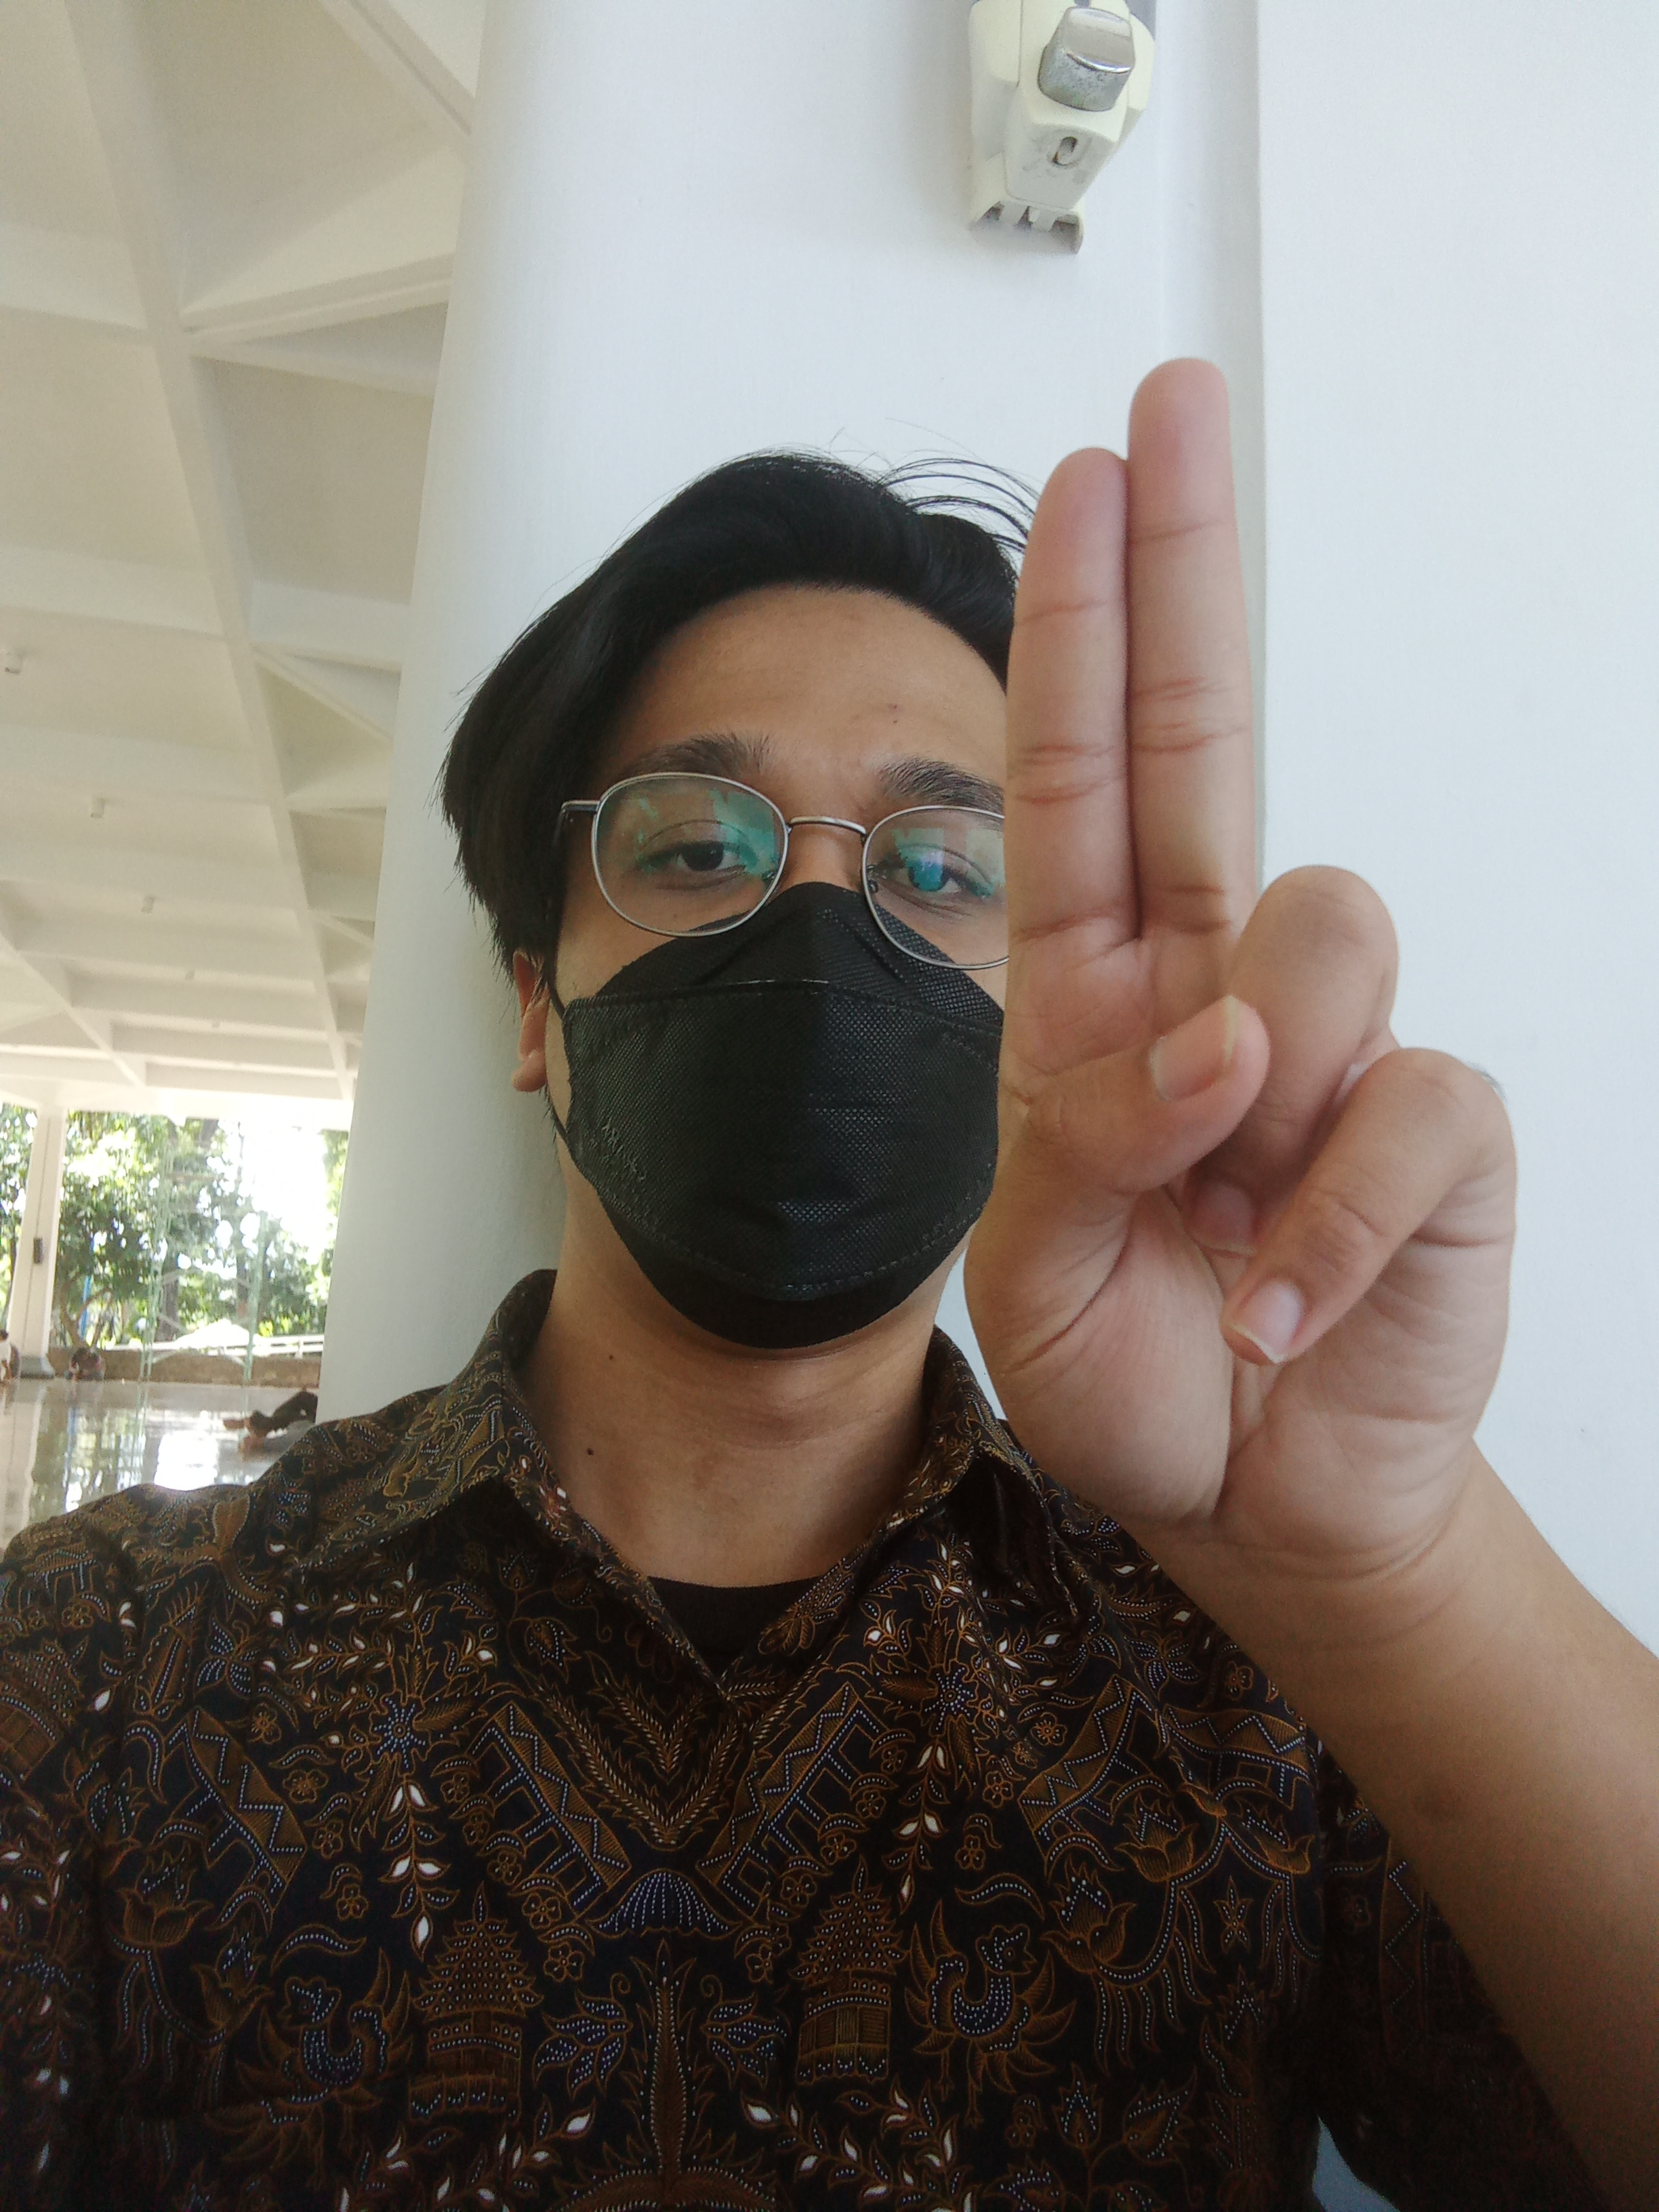U: (945, 340, 1561, 1608)
